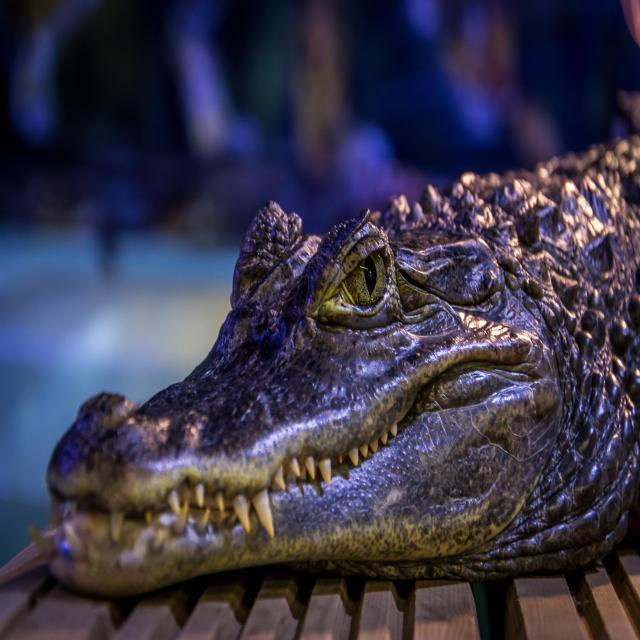crocodile: (6, 99, 640, 640)
